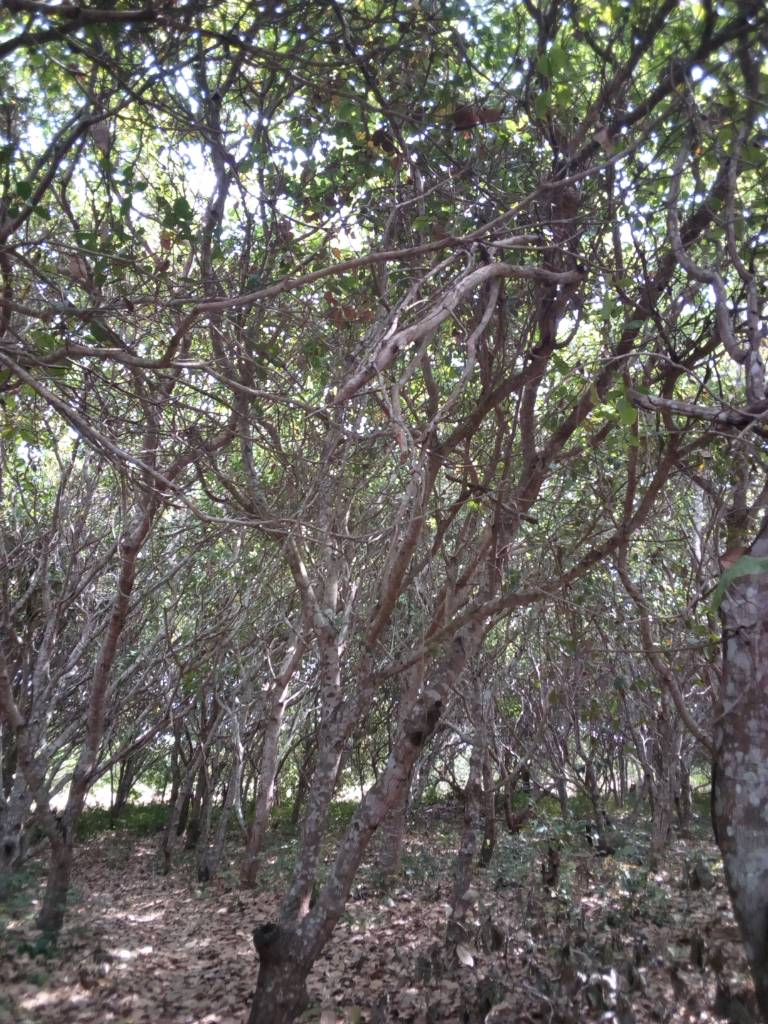Termites: (405, 694, 444, 746), (254, 919, 297, 964)
